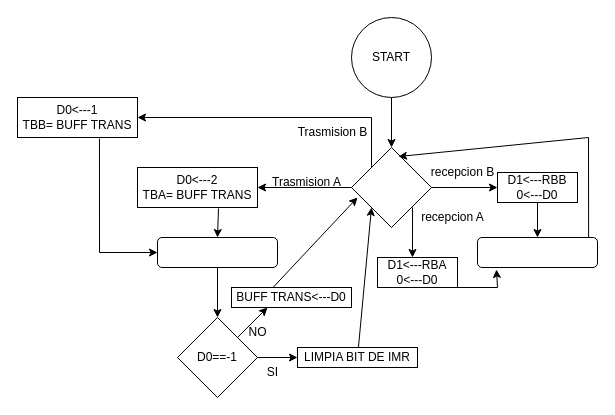
The diagram is 615 pixels wide and 415 high, and some of its shapes have lost their labels. Each missing label, with the centre of its shape:
BUFFER USADO: (391,187)
LLAMADA ESCAAR: (537,252)
LLAMADA LEECAR: (217,252)
